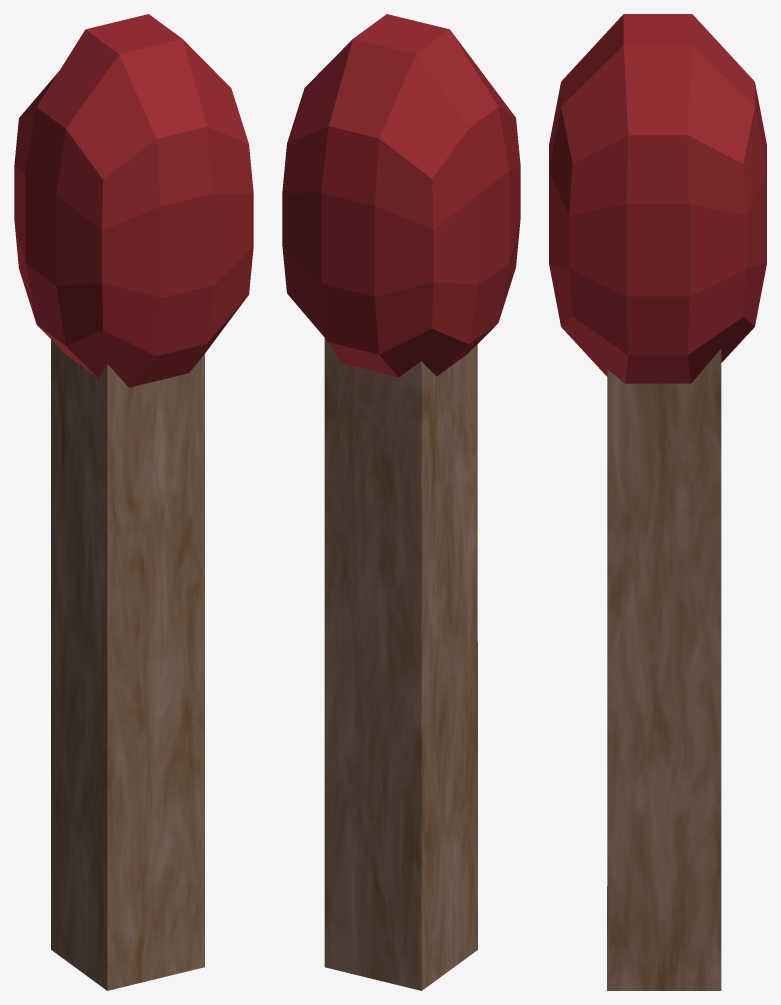
Rendered from korek_1_batang.fbx.
The picture shows the model from 3 angles, left to right: view 1: azimuth 30°, elevation 25°; view 2: azimuth 150°, elevation 25°; view 3: azimuth 270°, elevation 25°; orthographic projection.
Parts seen in each view (by area): view 1: Cube; view 2: Cube; view 3: Cube.
Boxes of the visible parts, left/top/right/bottom form: Cube: left=14, top=14, right=253, bottom=990; Cube: left=282, top=14, right=520, bottom=990; Cube: left=549, top=14, right=766, bottom=990.
Bounding box in the file's own units: 271 × 1288 × 271.
